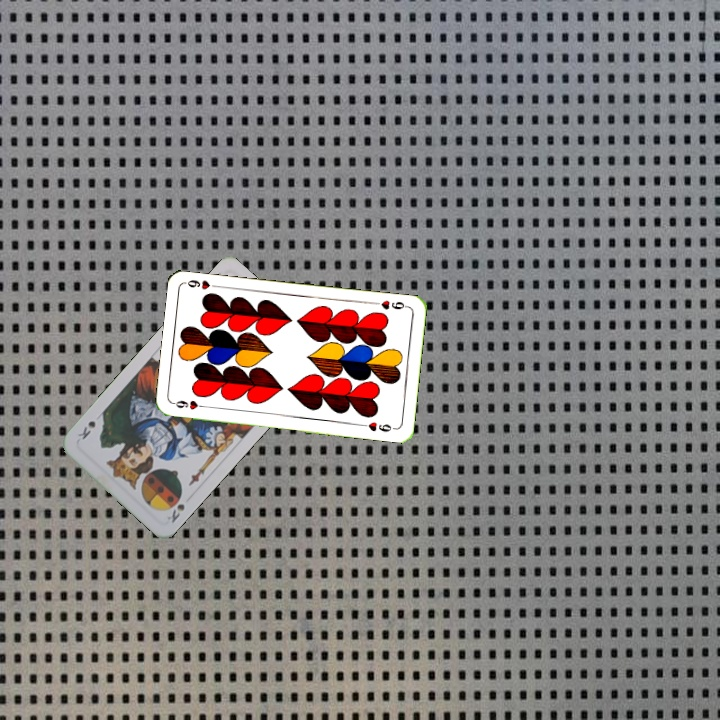H9: (370, 296, 411, 312), (170, 396, 210, 412)
SK: (163, 499, 187, 526)
